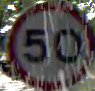Speed limit: (7, 2, 94, 90)
